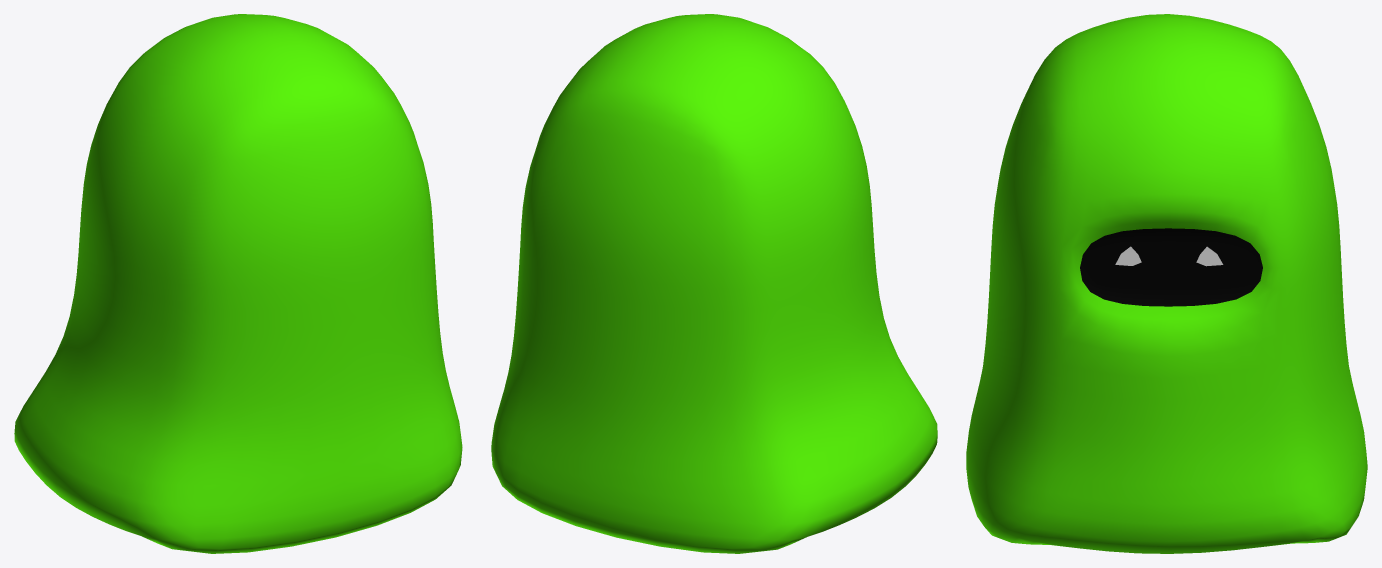
Rendered from SpiritBody.glb.
The picture shows the model from 3 angles, left to right: view 1: azimuth 30°, elevation 25°; view 2: azimuth 150°, elevation 25°; view 3: azimuth 270°, elevation 25°; orthographic projection. The views are drawn at different scales.
Visible parts, largest first — view 1: Cube; view 2: Cube; view 3: Cube.
Boxes of the visible parts, <box> form: Cube: <box>14,14,462,553</box>; Cube: <box>491,14,937,553</box>; Cube: <box>966,14,1367,553</box>.
Size of the model in its own units: 1.42 by 1.63 by 1.28.
